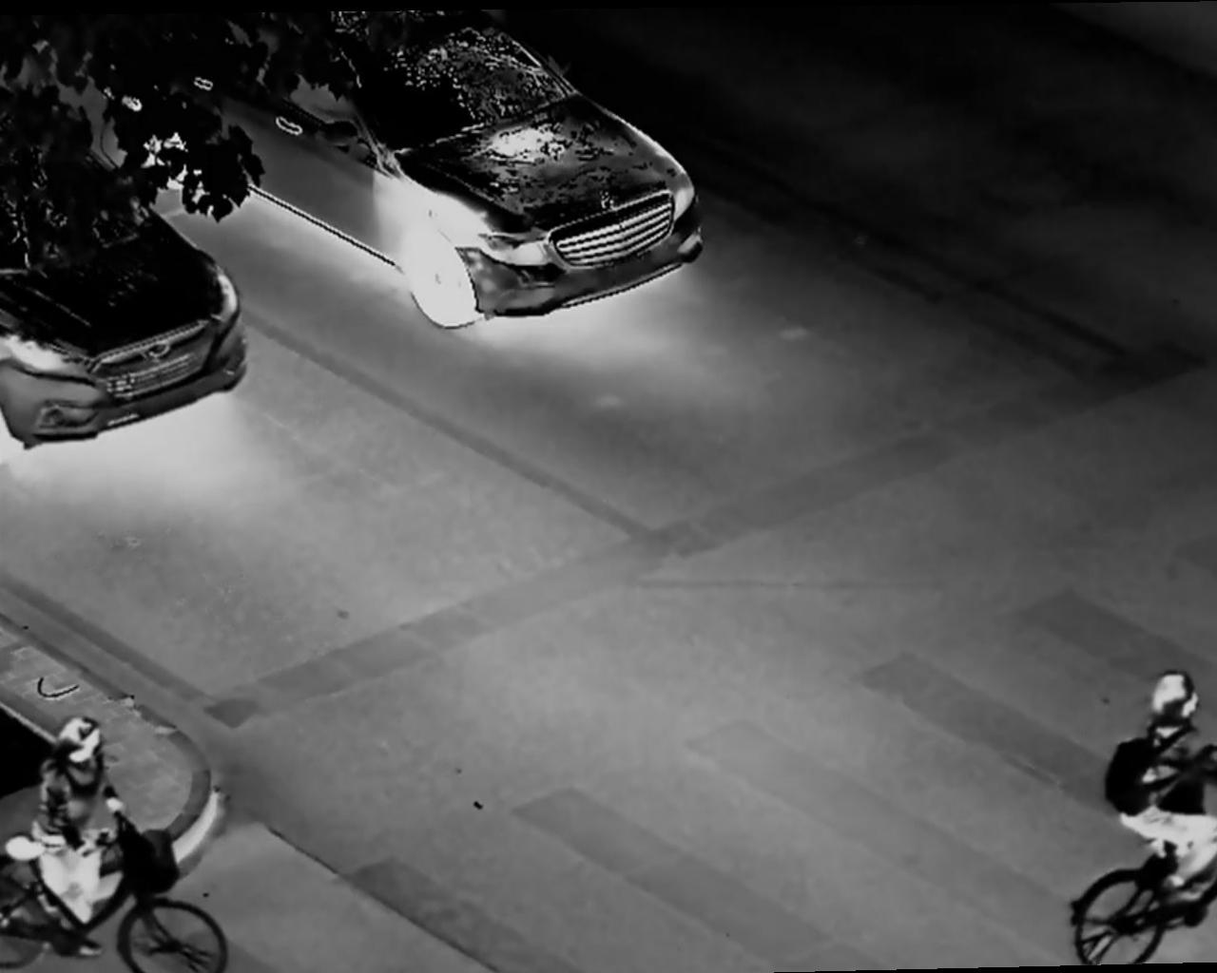person: (23, 709, 141, 965), (1102, 665, 1217, 910)
